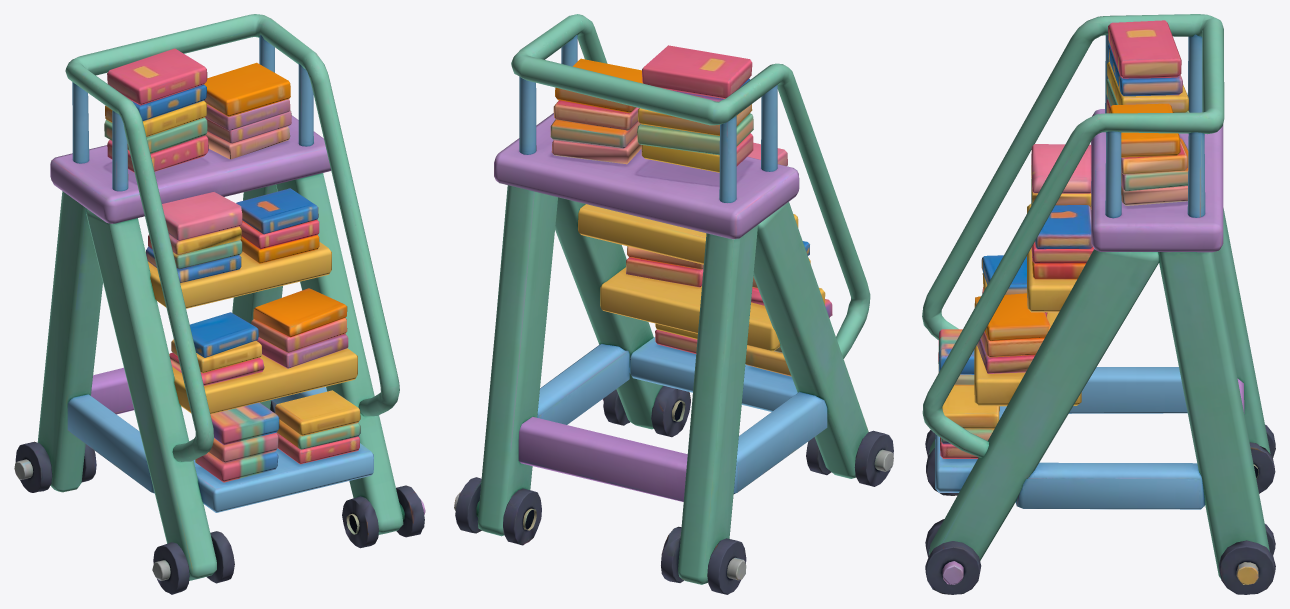
Rendered from books-reading-ladder.glb.
3 views of the same model, side by side, from view 1: azimuth 30°, elevation 25°; view 2: azimuth 150°, elevation 25°; view 3: azimuth 270°, elevation 25° (orthographic). The views are drawn at different scales.
Parts seen in each view (by area): view 1: geometry_0; view 2: geometry_0; view 3: geometry_0.
Boxes of the visible parts, x1=… form: geometry_0: x1=14, y1=14, x2=425, y2=594; geometry_0: x1=454, y1=14, x2=893, y2=594; geometry_0: x1=922, y1=14, x2=1275, y2=594.
Size of the model in its own units: 0.6302 by 1 by 0.684.
Materials: 1 (1 with a texture image).
